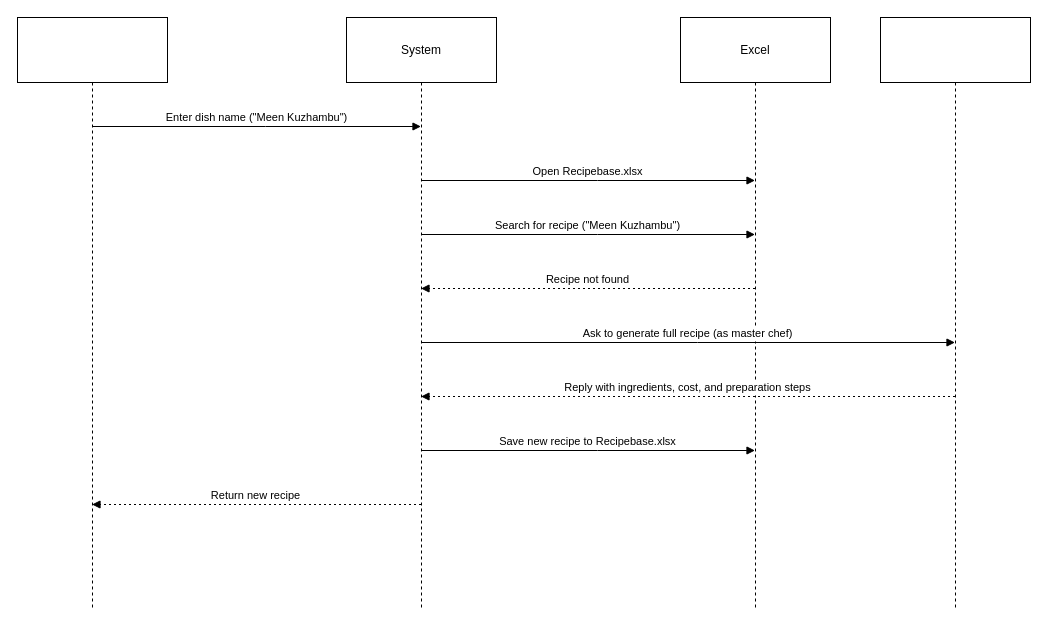
Some shapes in this 1048 by 627 pixel diagram are drawn without their labels. Each missing label, with the box of its shape:
ChatGPT: (880, 16, 1030, 610)
User: (16, 16, 168, 610)
